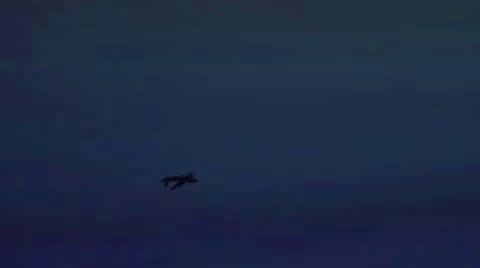Plane: (142, 164, 217, 196)
